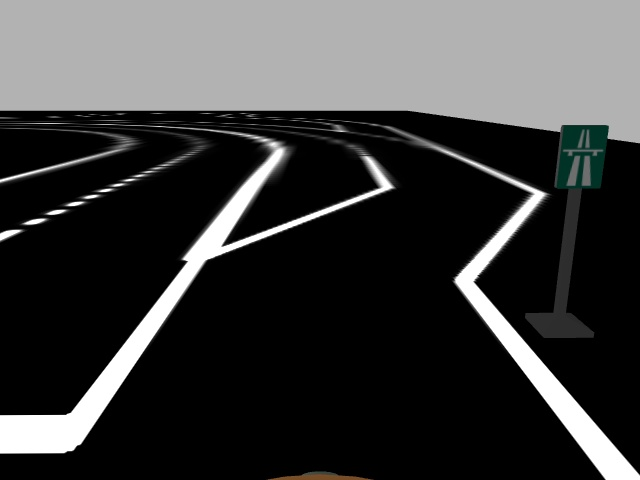enter_highway: (552, 123, 611, 190)
